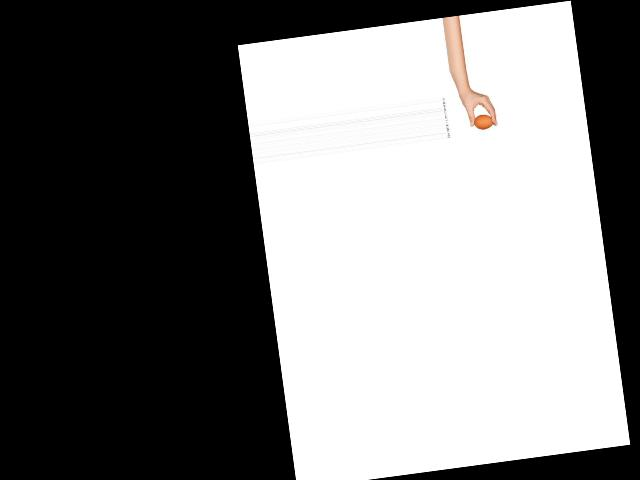egg: (472, 114, 494, 130)
